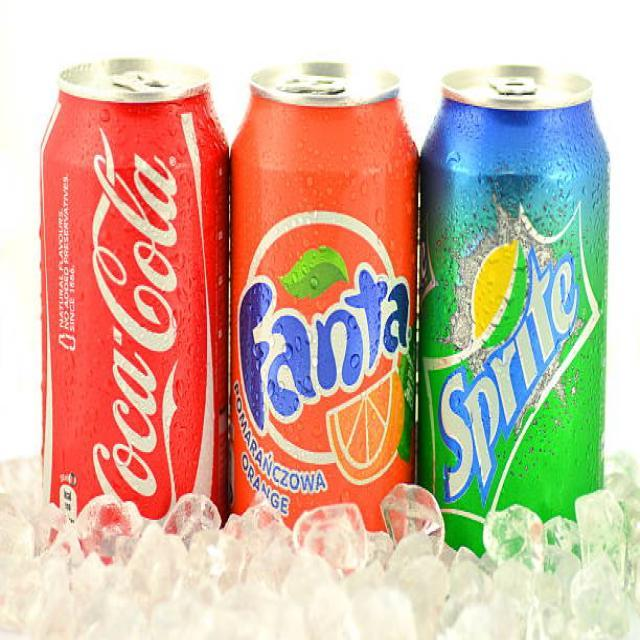Coke: (31, 54, 223, 577)
Fanta: (224, 59, 422, 573)
